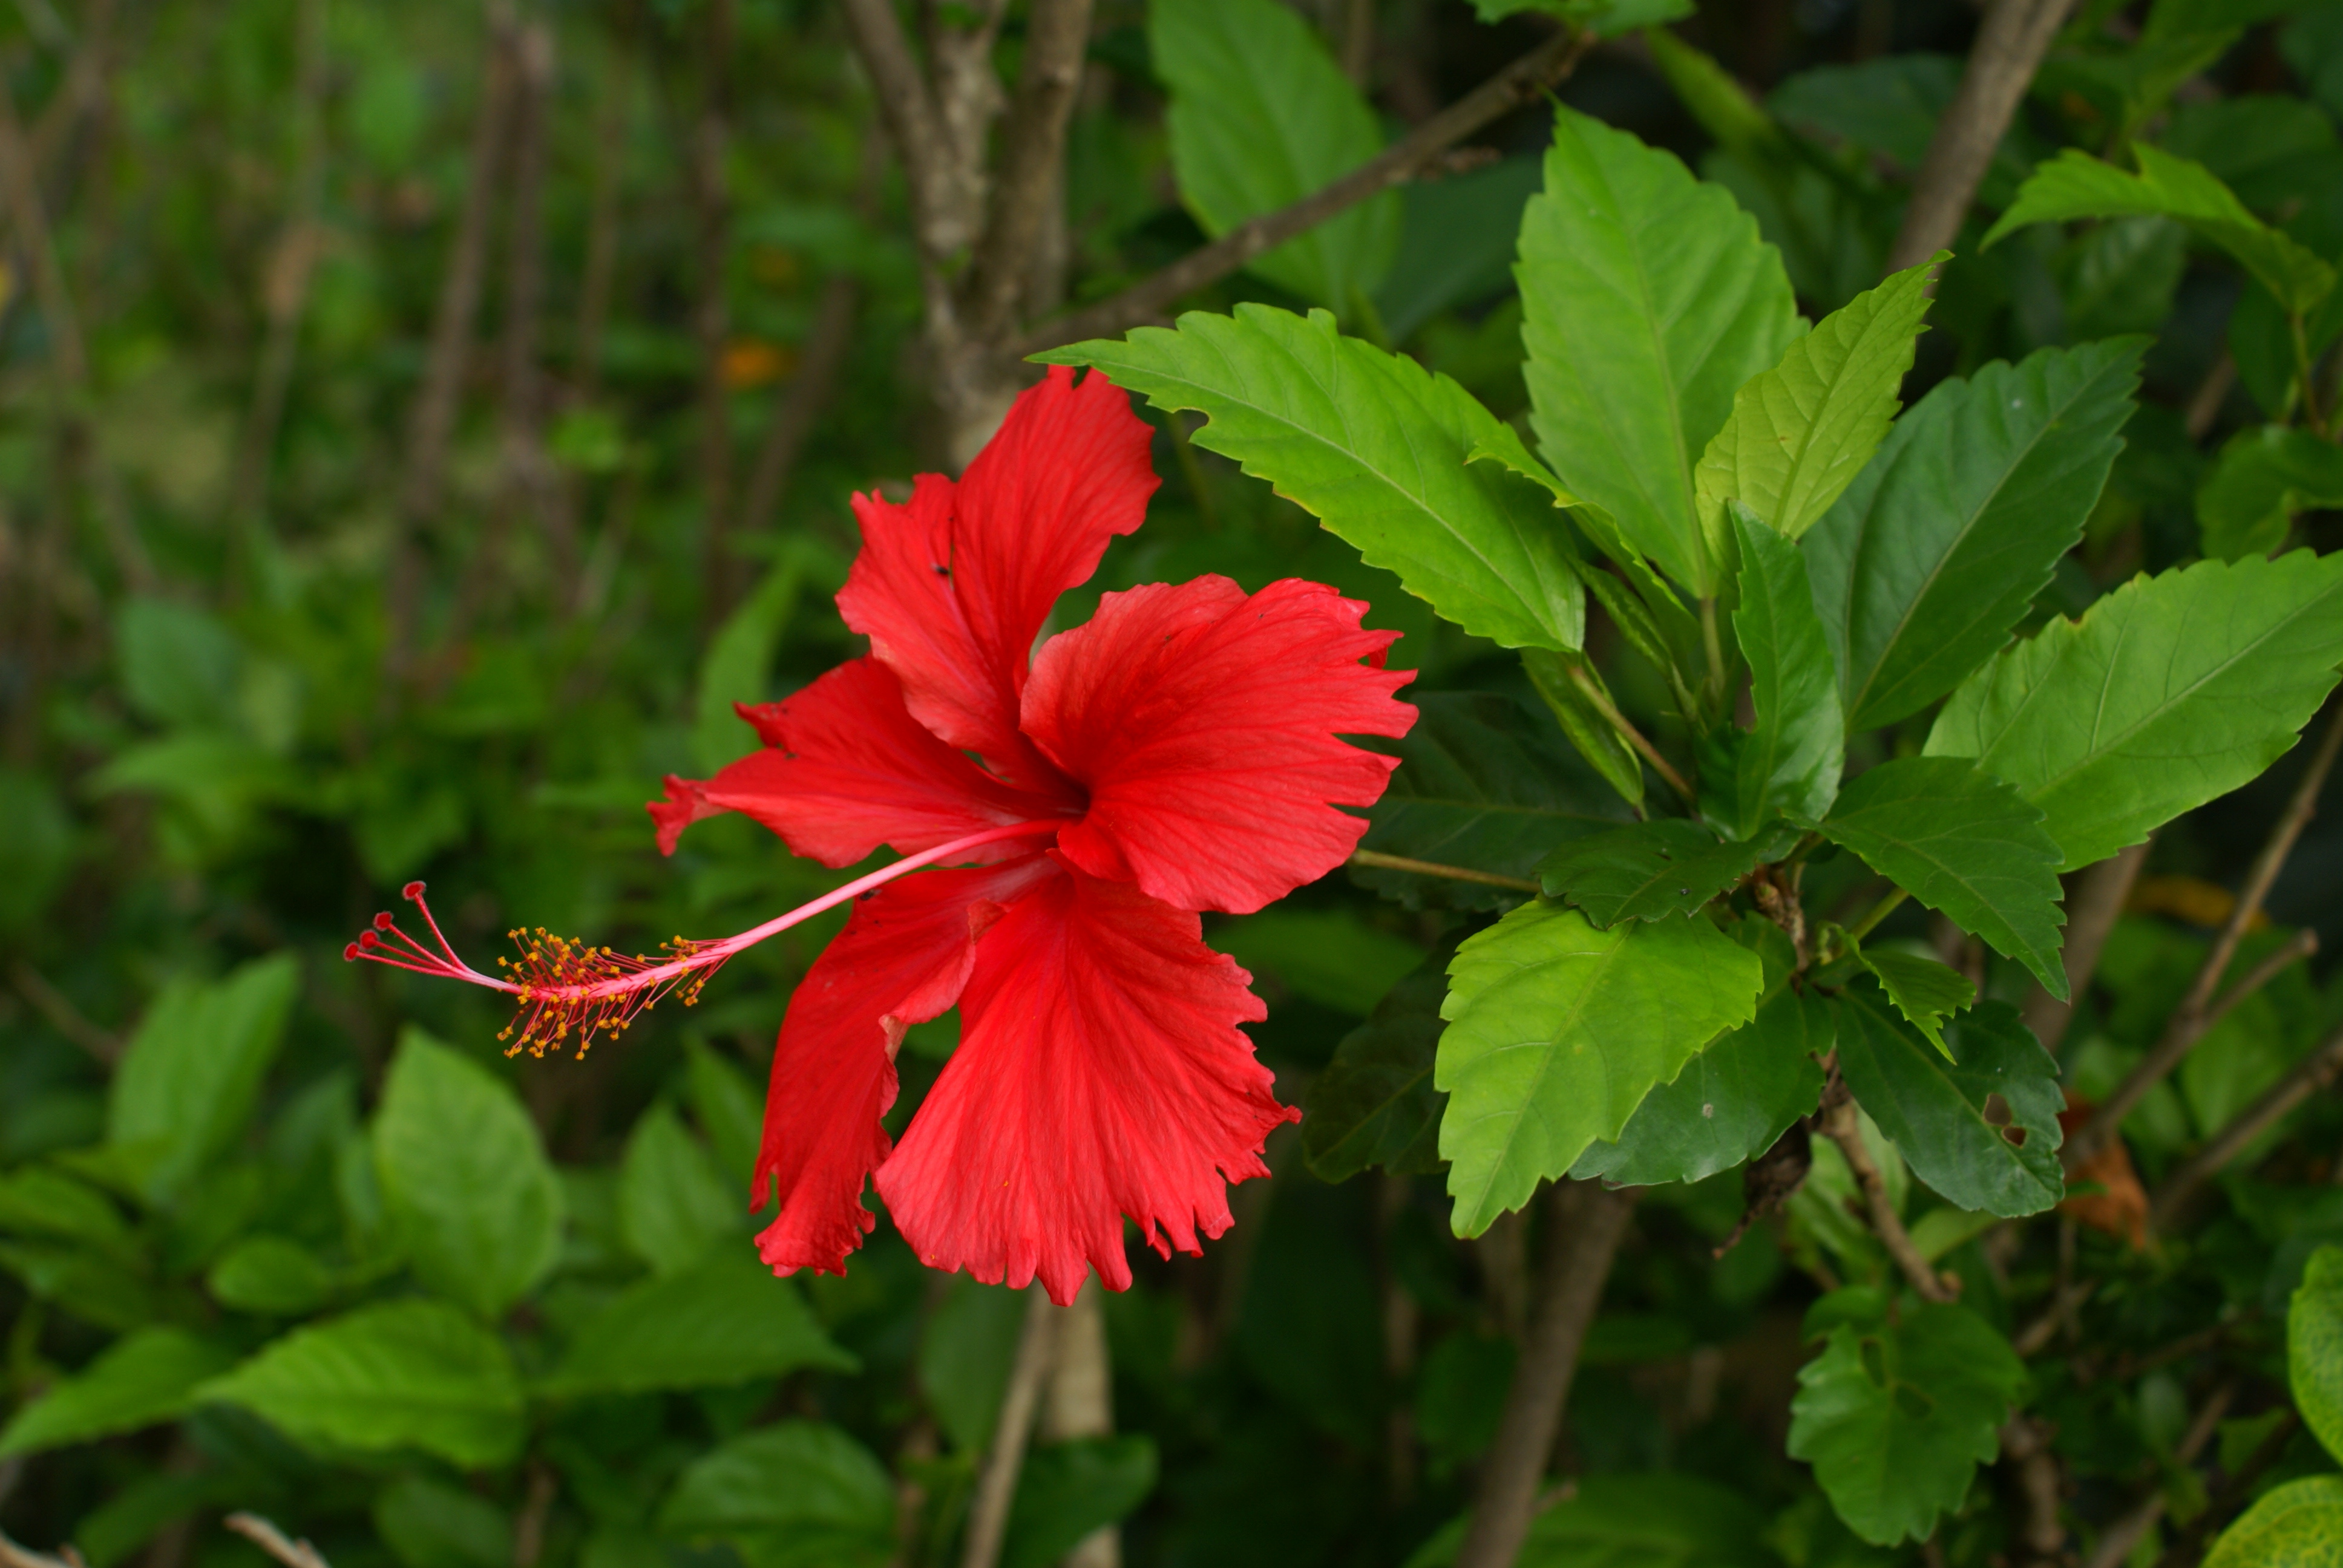Hibiscus-rosa-sinesis: (338, 367, 1416, 1311)
